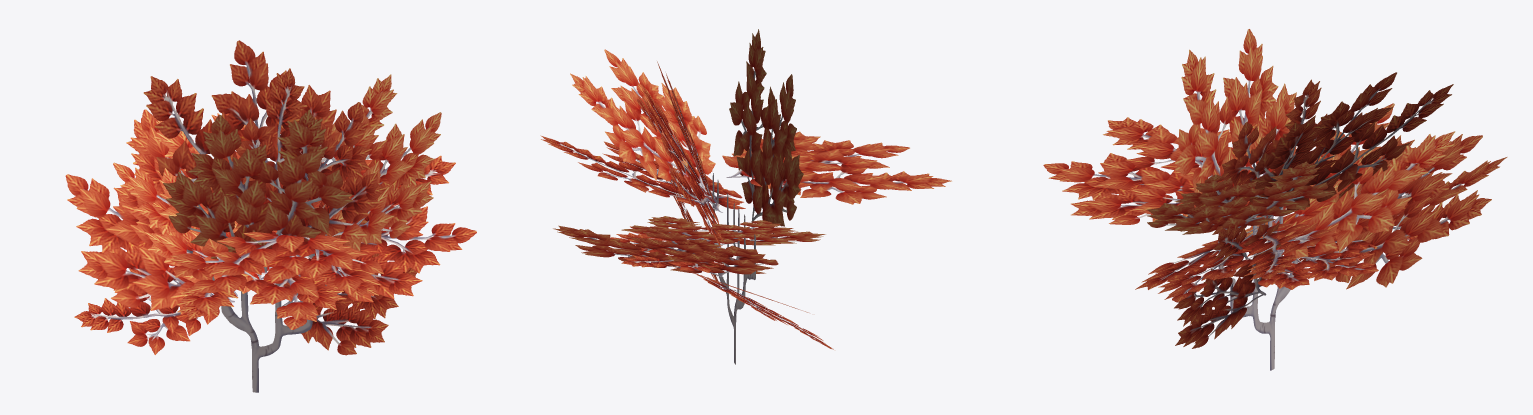
Rendered from Bush3.obj.
3 renders of one model, left to right at view 1: azimuth 30°, elevation 25°; view 2: azimuth 150°, elevation 25°; view 3: azimuth 270°, elevation 25°, orthographic. The views are drawn at different scales.
Parts seen in each view (by area): view 1: pPlane163; view 2: pPlane163; view 3: pPlane163.
Part boxes in pixels (box(x1,y1,x2,y2)): pPlane163: box(65, 40, 476, 392); pPlane163: box(540, 29, 951, 364); pPlane163: box(1043, 29, 1507, 370).
Bounding box in the file's own units: 23.9 × 20.2 × 27.28.
